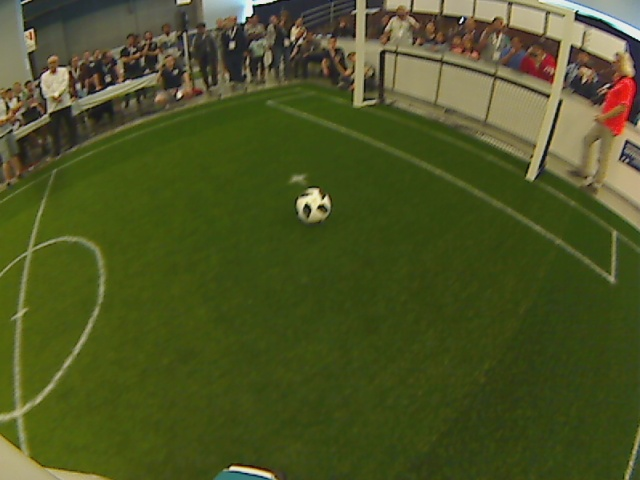ball: (294, 187, 332, 221)
